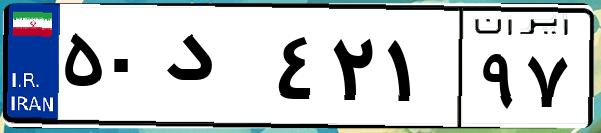0: (110, 28, 158, 98)
1: (385, 28, 445, 110)
2: (330, 28, 385, 110)
4: (270, 28, 330, 110)
5: (57, 26, 110, 100)
7: (525, 38, 570, 115)
9: (475, 38, 525, 113)
د: (158, 20, 270, 120)
